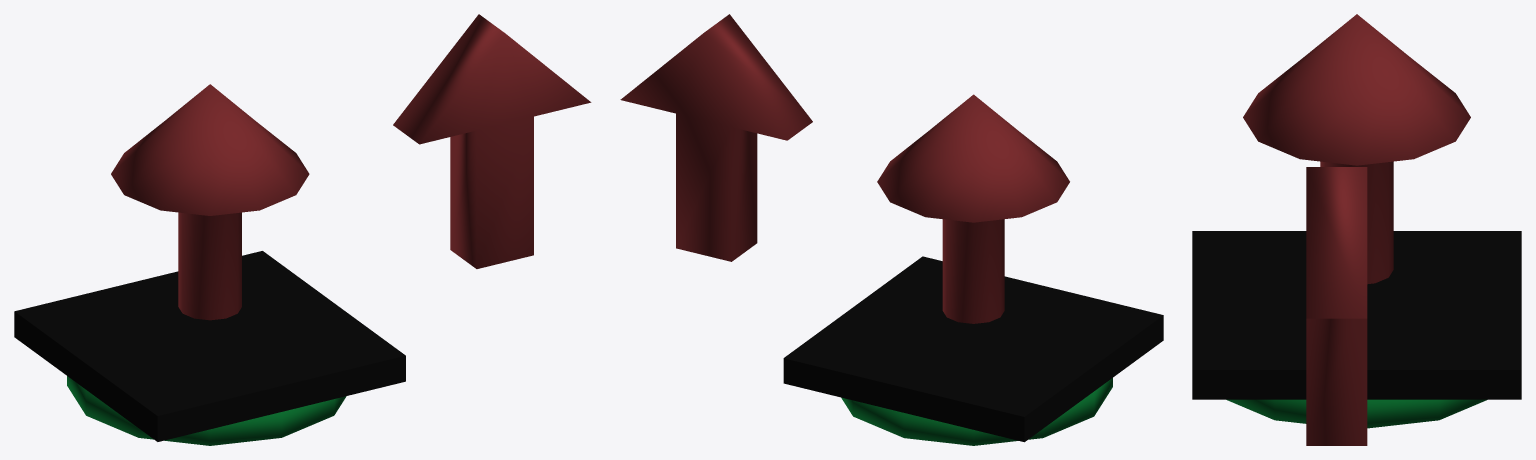
3 renders of one model, left to right at view 1: azimuth 30°, elevation 25°; view 2: azimuth 150°, elevation 25°; view 3: azimuth 270°, elevation 25°, orthographic. The views are drawn at different scales.
Parts seen in each view (by area): view 1: 平台, 箭头.001, 箭头, 圆环; view 2: 平台, 箭头.001, 箭头, 圆环; view 3: 平台, 箭头, 箭头.001, 圆环.
Part boxes in pixels (bbox=[...]): 平台: bbox=[14, 251, 405, 441]; 箭头.001: bbox=[393, 14, 591, 268]; 箭头: bbox=[111, 84, 309, 320]; 圆环: bbox=[67, 376, 346, 445]; 平台: bbox=[783, 256, 1163, 442]; 箭头.001: bbox=[620, 14, 812, 261]; 箭头: bbox=[877, 94, 1069, 323]; 圆环: bbox=[841, 378, 1112, 445]; 平台: bbox=[1192, 231, 1521, 399]; 箭头: bbox=[1243, 14, 1470, 284]; 箭头.001: bbox=[1306, 167, 1367, 445]; 圆环: bbox=[1226, 399, 1487, 428].
Bounding box in the file's own units: 390 × 232 × 200.
